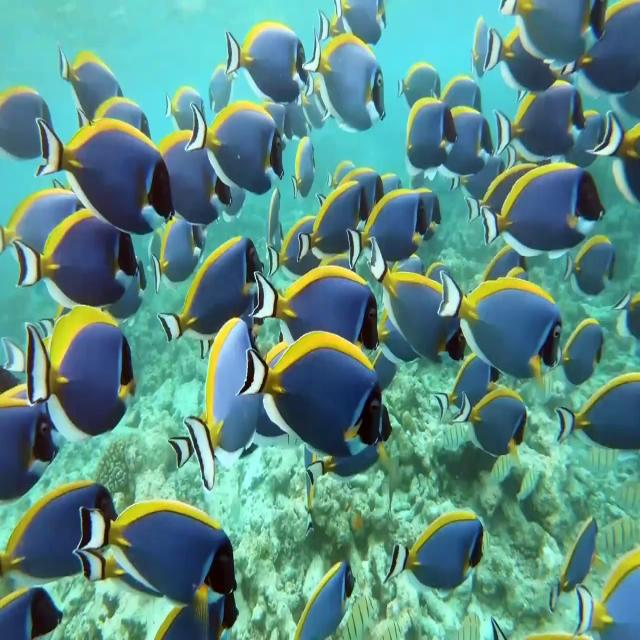fish: (240, 332, 392, 469), (76, 497, 236, 604), (36, 118, 176, 235), (26, 308, 136, 435), (439, 268, 561, 380), (13, 204, 138, 307), (366, 243, 464, 372), (251, 268, 380, 361), (483, 160, 604, 258), (192, 318, 264, 482), (0, 481, 113, 583), (162, 232, 264, 342), (186, 99, 284, 195), (148, 127, 231, 227), (304, 30, 386, 130), (384, 510, 484, 588), (494, 76, 582, 163), (551, 373, 640, 453), (348, 190, 429, 276), (226, 22, 308, 106), (0, 399, 65, 500), (296, 179, 366, 262), (292, 555, 357, 640), (457, 385, 531, 457), (57, 47, 126, 123), (406, 95, 458, 187), (150, 220, 208, 289), (442, 105, 492, 177), (565, 233, 619, 295), (553, 321, 604, 385), (398, 62, 442, 109), (290, 134, 319, 197)
